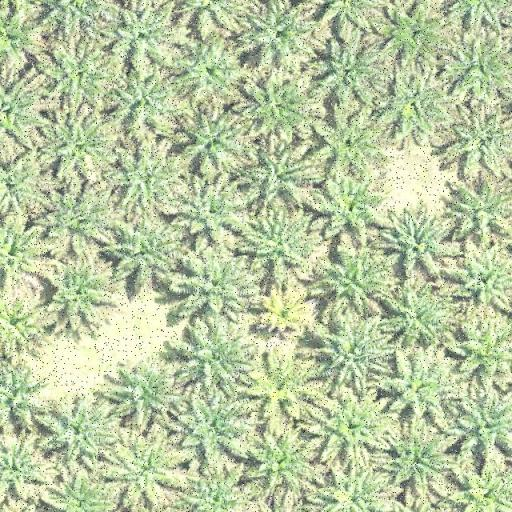Ganoderma: (267, 300, 300, 332)
